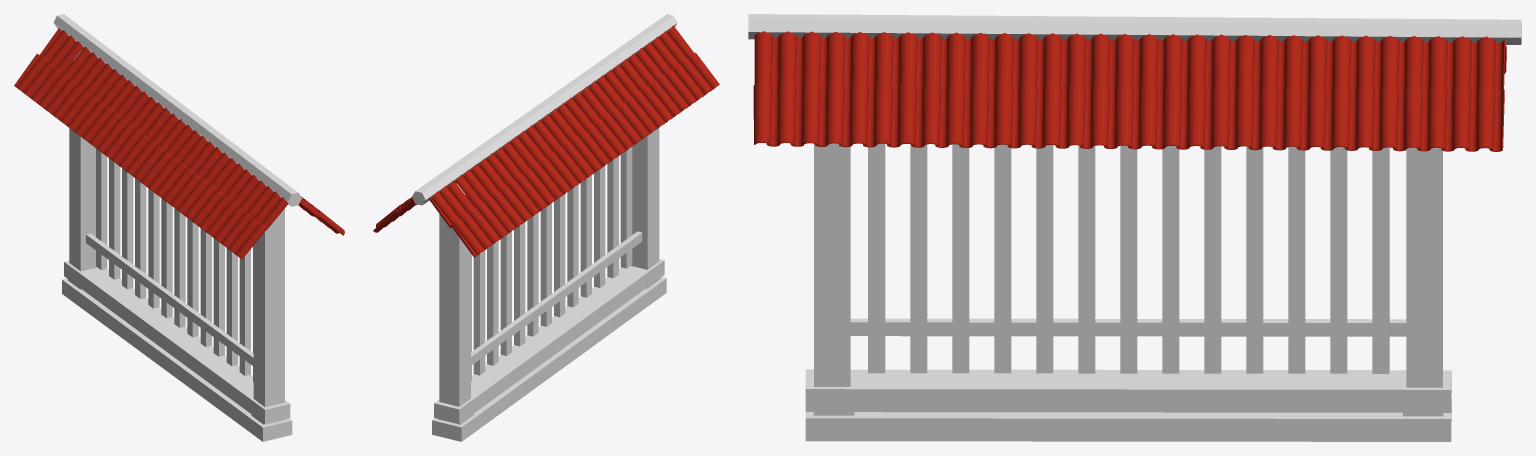
The model's file is Zaun Dach.fbx.
The picture shows the model from 3 angles, left to right: view 1: azimuth 30°, elevation 25°; view 2: azimuth 150°, elevation 25°; view 3: azimuth 270°, elevation 25°; orthographic projection. The views are drawn at different scales.
Visible parts, largest first — view 1: Roof.005, Cube.979, Cube.984, Cube.982, Cube.983, Cylinder.282, Cube.981; view 2: Roof.005, Cube.979, Cube.984, Cube.982, Cube.983, Cylinder.282, Cube.981; view 3: Roof.005, Cube.979, Cube.982, Cube.983, Cube.984, Cylinder.282, Cube.981.
Boxes of the visible parts, bbox=[...] form: Roof.005: bbox=[14, 28, 344, 258]; Cube.979: bbox=[96, 148, 253, 381]; Cube.984: bbox=[69, 50, 284, 407]; Cube.982: bbox=[64, 260, 290, 423]; Cube.983: bbox=[62, 278, 292, 441]; Cylinder.282: bbox=[53, 14, 301, 206]; Cube.981: bbox=[86, 233, 253, 366]; Roof.005: bbox=[373, 26, 719, 257]; Cube.979: bbox=[471, 147, 632, 381]; Cube.984: bbox=[439, 128, 659, 406]; Cube.982: bbox=[434, 259, 664, 423]; Cube.983: bbox=[432, 277, 666, 441]; Cylinder.282: bbox=[412, 14, 677, 205]; Cube.981: bbox=[471, 231, 642, 365]; Roof.005: bbox=[753, 31, 1506, 151]; Cube.979: bbox=[868, 143, 1389, 373]; Cube.982: bbox=[805, 369, 1451, 412]; Cube.983: bbox=[805, 396, 1451, 441]; Cube.984: bbox=[814, 143, 1442, 387]; Cylinder.282: bbox=[748, 14, 1521, 44]; Cube.981: bbox=[850, 318, 1406, 336].
Size of the model in its own units: 191 by 418 by 709.
